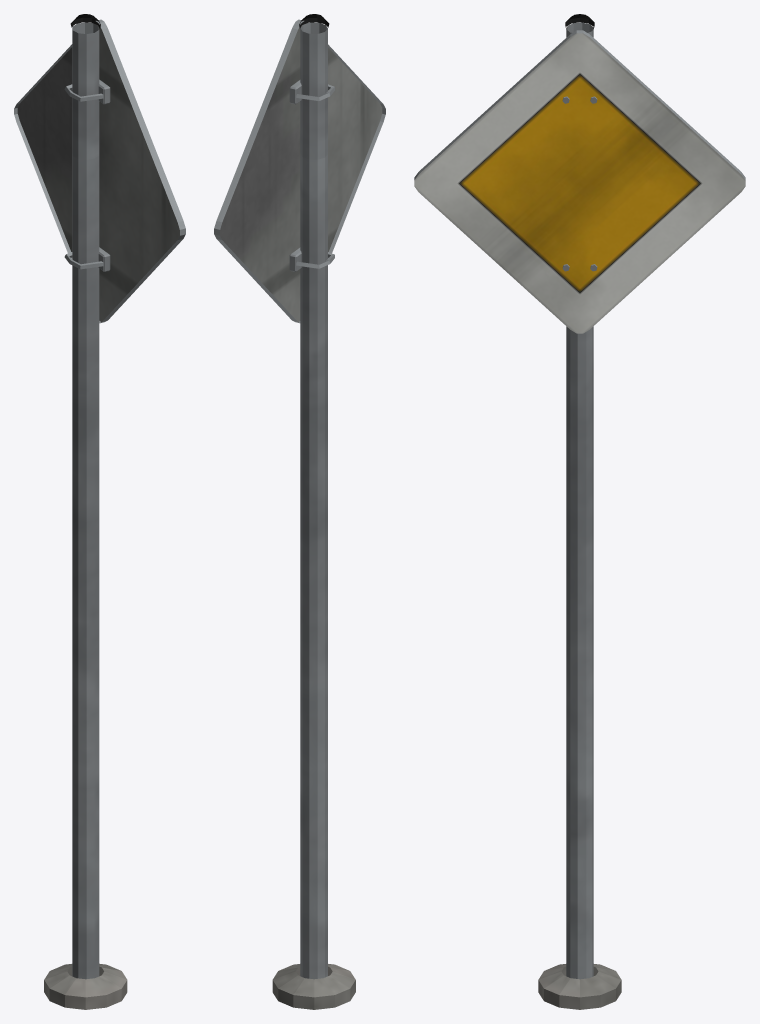
Rendered from sg_main.glb.
The picture shows the model from 3 angles, left to right: view 1: azimuth 30°, elevation 25°; view 2: azimuth 150°, elevation 25°; view 3: azimuth 270°, elevation 25°; orthographic projection.
Parts seen in each view (by area): view 1: sg_main; view 2: sg_main; view 3: sg_main.
Boxes of the visible parts, x1,y1,x2,y2 form: sg_main: (14,14,185,1009); sg_main: (214,14,385,1009); sg_main: (414,14,745,1009).
Size of the model in its own units: 0.18 by 2.33 by 0.7164.
Materials: 1 (1 with a texture image).
